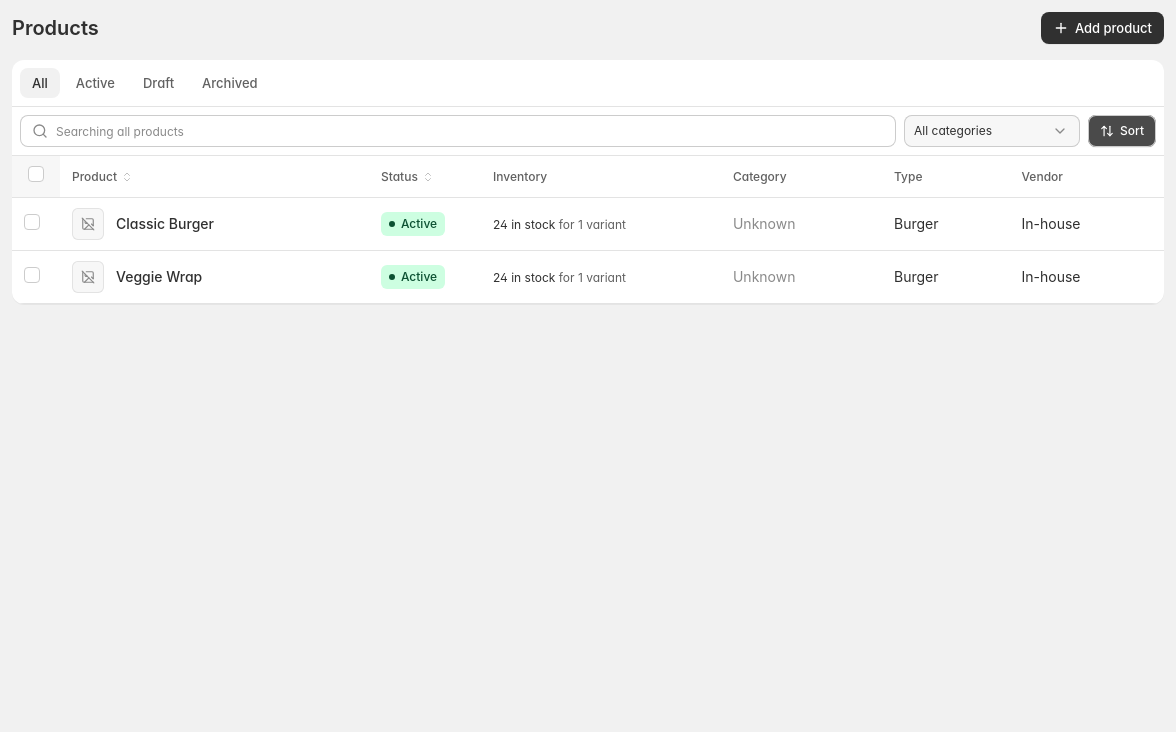
bulk product actions › keeps the selection and says why when only some went through
Expected: the link "Classic Burger" is shown, [116,214,214,234]
Click the checkbox named "Select every row on this page" at (36, 174), box [28,166,44,182]
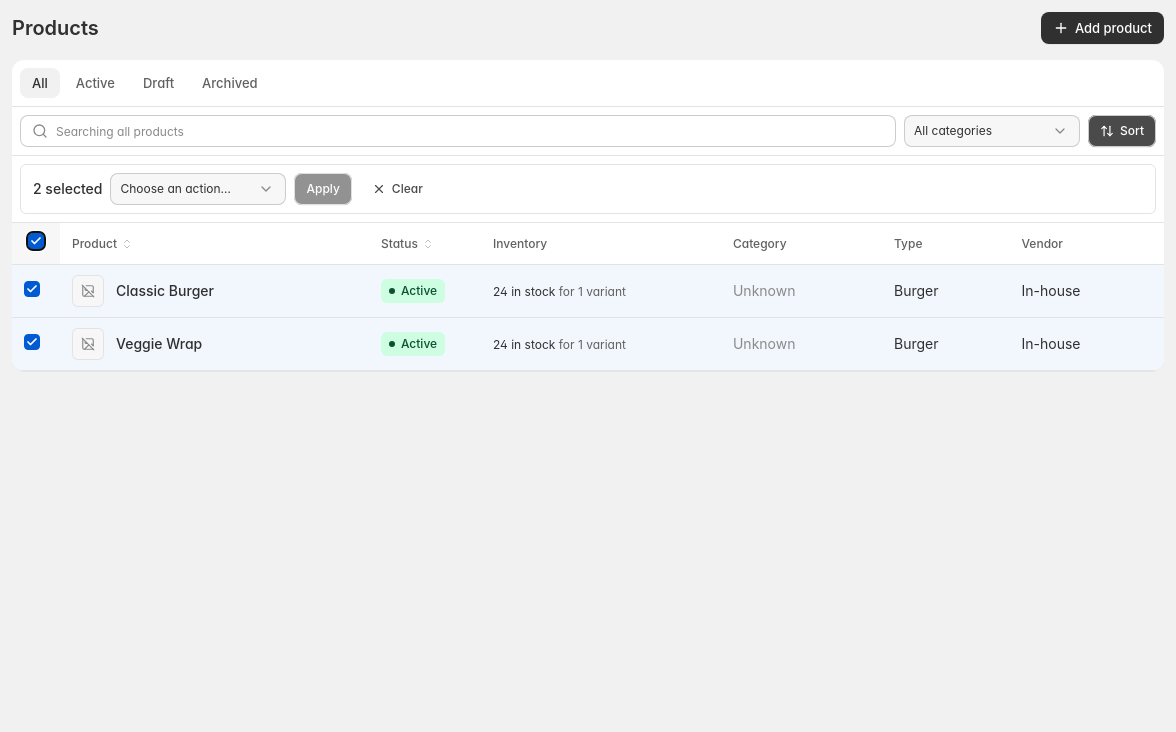
Select "Publish" in the dropdown named "Bulk action" at (198, 189), box [110,173,286,205]
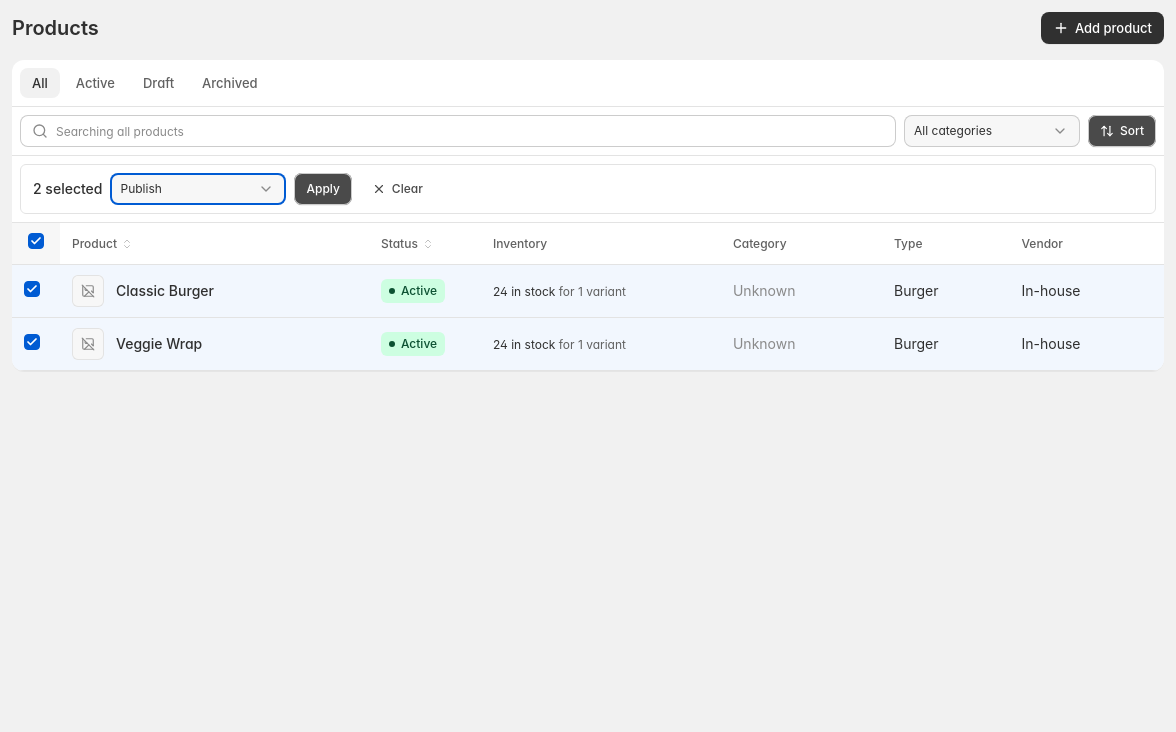
Click the button "Apply" at (323, 189), box [294,173,352,205]
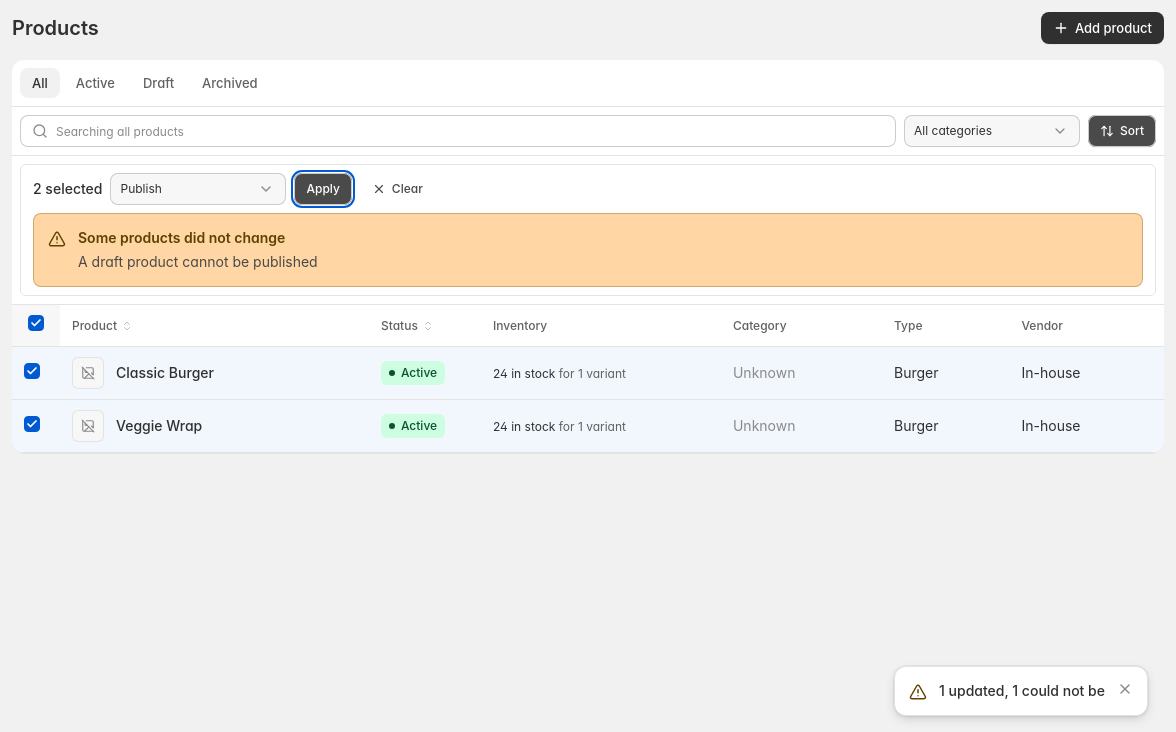
Now the text "2 selected" is shown, box [33,179,102,199]
Now the text "Some products did not change" is shown, box [78,229,285,246]
Now the text "A draft product cannot be published" is shown, box [78,253,318,270]
